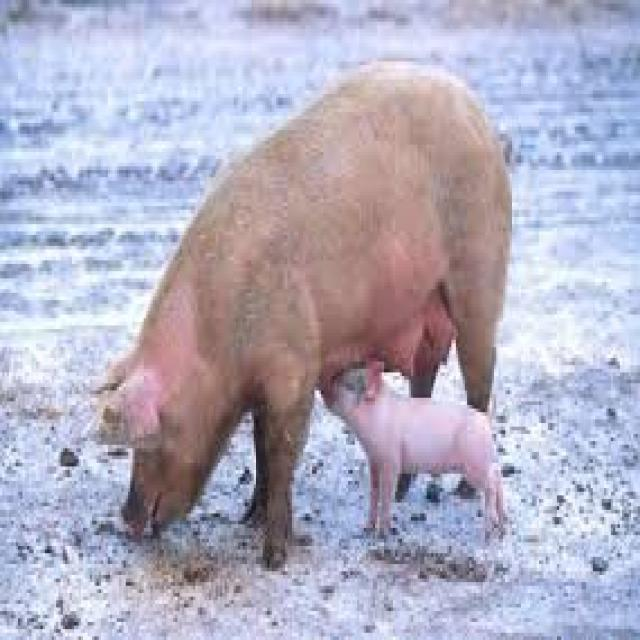Pig: (100, 57, 516, 566), (324, 356, 502, 539)
